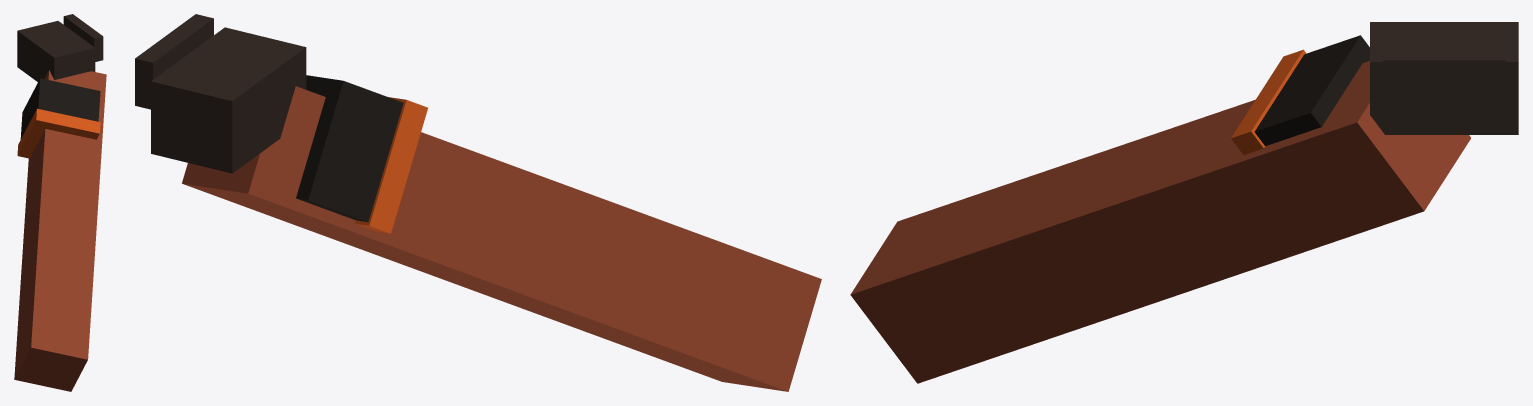
Rendered from BO_SM_Arms_FoxL_v001.glb.
3 views of the same model, side by side, from view 1: azimuth 30°, elevation 25°; view 2: azimuth 150°, elevation 25°; view 3: azimuth 270°, elevation 25° (orthographic). The views are drawn at different scales.
Parts seen in each view (by area): view 1: body_004, body_000, body_002, body_003, body_001; view 2: body_004, body_000, body_002, body_003, body_001; view 3: body_004, body_000, body_001, body_002, body_003.
Part boxes in pixels (x1,y1,x2,y2): body_004: (14, 70, 106, 391); body_000: (17, 21, 95, 81); body_002: (20, 78, 100, 139); body_003: (17, 108, 100, 158); body_001: (63, 14, 103, 61); body_004: (182, 86, 821, 391); body_000: (151, 27, 306, 173); body_002: (296, 75, 403, 222); body_003: (355, 97, 427, 233); body_001: (135, 14, 213, 109); body_004: (850, 61, 1470, 383); body_000: (1370, 22, 1518, 134); body_001: (1383, 51, 1505, 107); body_002: (1254, 35, 1369, 145); body_003: (1231, 49, 1306, 155).
Size of the model in its own units: 0.2557 by 0.2954 by 0.382.
